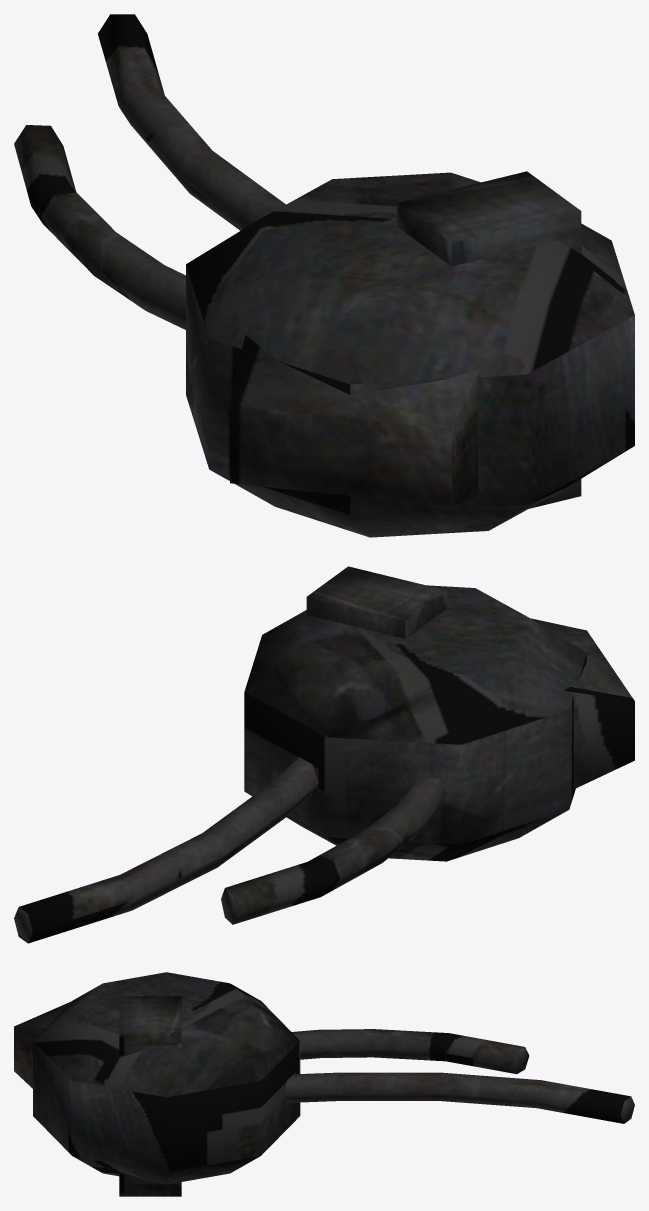
Rendered from spacejunk11.fbx.
3 views of the same model, one above another, from view 1: azimuth 30°, elevation 25°; view 2: azimuth 150°, elevation 25°; view 3: azimuth 270°, elevation 25° (orthographic). The views are drawn at different scales.
Visible parts, largest first — view 1: PipelineFBX; view 2: PipelineFBX; view 3: PipelineFBX.
Part boxes in pixels (x1,y1,x2,y2): PipelineFBX: (14,14,634,537); PipelineFBX: (14,566,634,943); PipelineFBX: (14,972,634,1196).
Size of the model in its own units: 40.48 by 25.34 by 87.
Materials: 1 (1 with a texture image).
